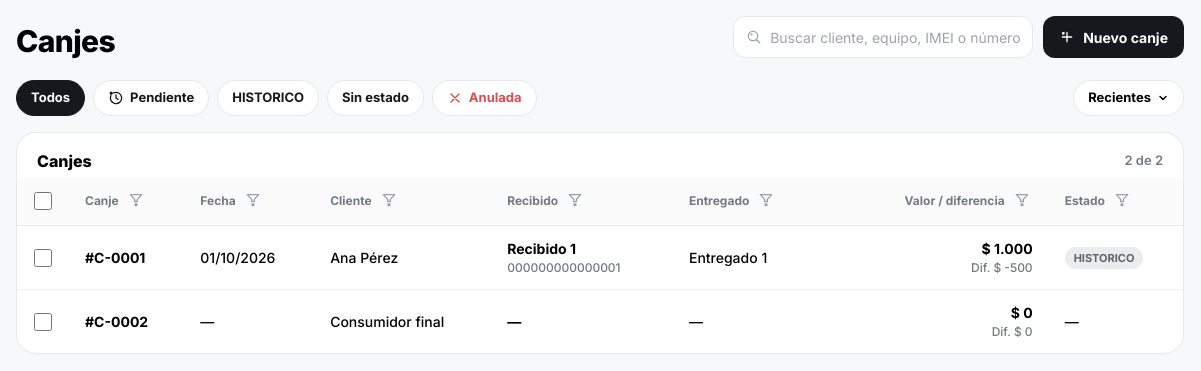
Test: Trade-ins table › retains historical and blank imported records without restoring absent default states
The width and height of the screenshot is (1201, 371).
Expected: the text "Entregado 1" is shown, [673, 226, 855, 290]
Expected: the text "Consumidor final" is shown, [314, 290, 491, 353]
Click the button "Sin estado": (376, 98) [327, 80, 424, 116]
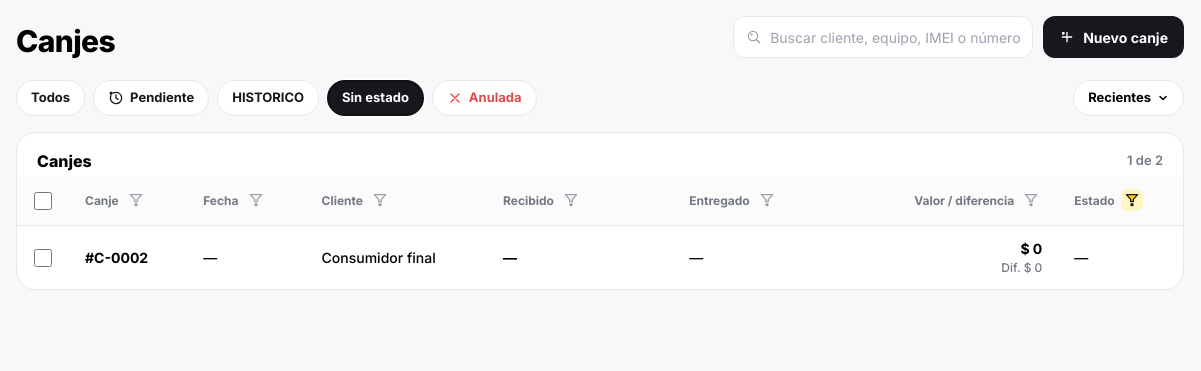
Expected: the text "—" is shown 4 times, [187, 226, 306, 289]; [503, 249, 517, 266]; [673, 226, 860, 289]; [1058, 226, 1183, 289]
Click the button "HISTORICO": (268, 98) [217, 80, 319, 116]
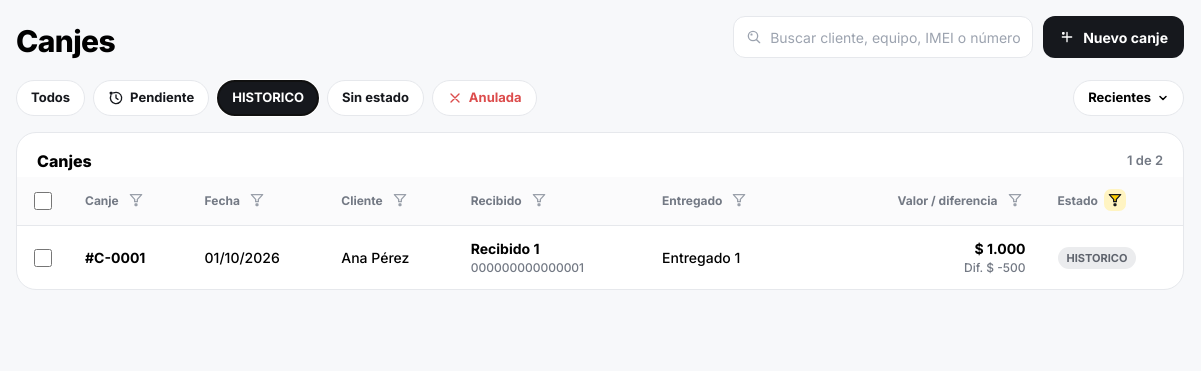
Expected: the text "Recibido 1" is shown, [471, 240, 540, 257]
